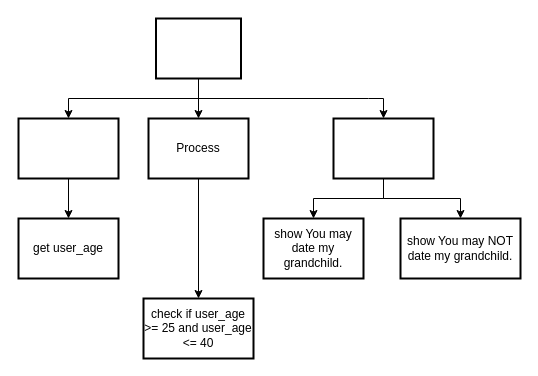
Some shapes in this 538 by 376 pixel diagram are drawn without their labels. Here are the shapes that lost their labels. From the top down, the centre of each, then its label:
At [198,48]: "age".
At [68,148]: "Input".
At [383,148]: "Output".
